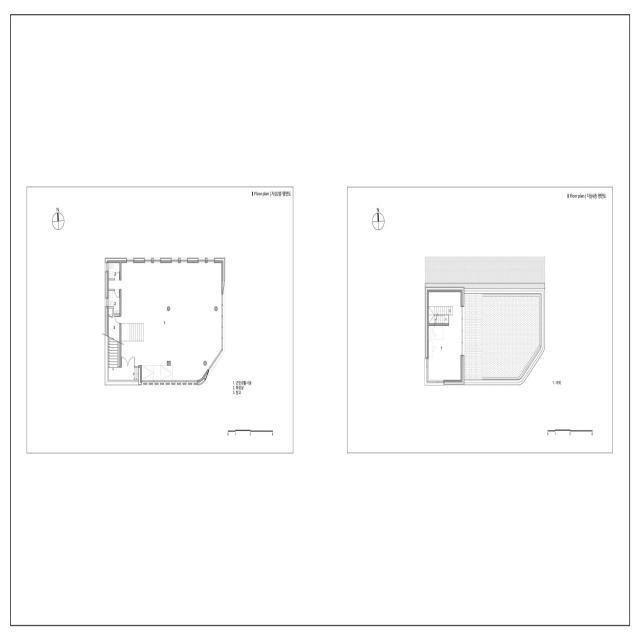space_other: (109, 263, 222, 380), (429, 292, 461, 380), (109, 308, 120, 367)
space_staircase: (429, 307, 453, 324)
space_toilet: (109, 291, 120, 314), (109, 263, 120, 279)
